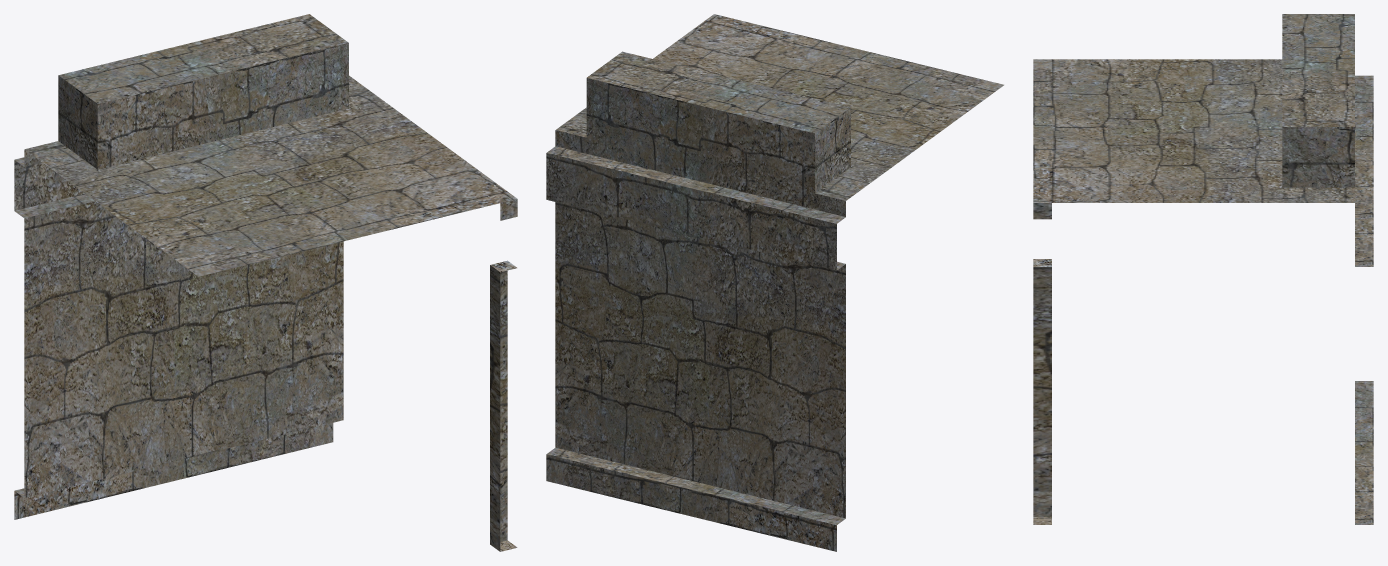
The model's file is Section6.FBX.
3 views of the same model, side by side, from view 1: azimuth 30°, elevation 25°; view 2: azimuth 150°, elevation 25°; view 3: azimuth 270°, elevation 25° (orthographic). The views are drawn at different scales.
Parts seen in each view (by area): view 1: ClaimedCo101N-SE001; view 2: ClaimedCo101N-SE001; view 3: ClaimedCo101N-SE001.
Boxes of the visible parts, <box> form: ClaimedCo101N-SE001: <box>14,14,517,551</box>; ClaimedCo101N-SE001: <box>546,14,1003,551</box>; ClaimedCo101N-SE001: <box>1033,14,1373,524</box>.
Size of the model in its own units: 100 by 133 by 100.
